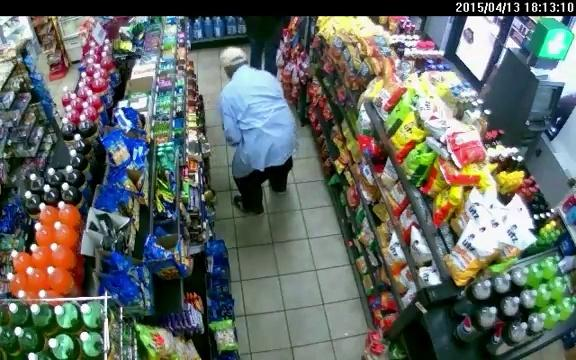Product-Picked: (114, 124, 124, 126)
Regular: (199, 24, 321, 240), (228, 14, 300, 81)
